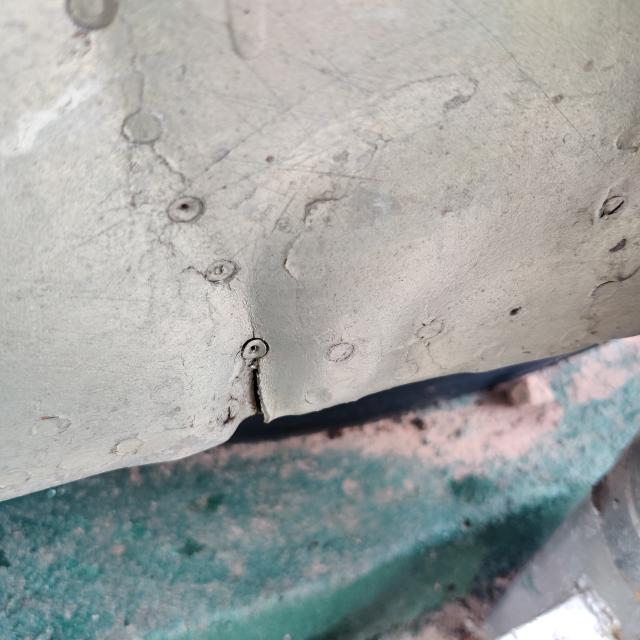crack: (226, 343, 288, 431)
